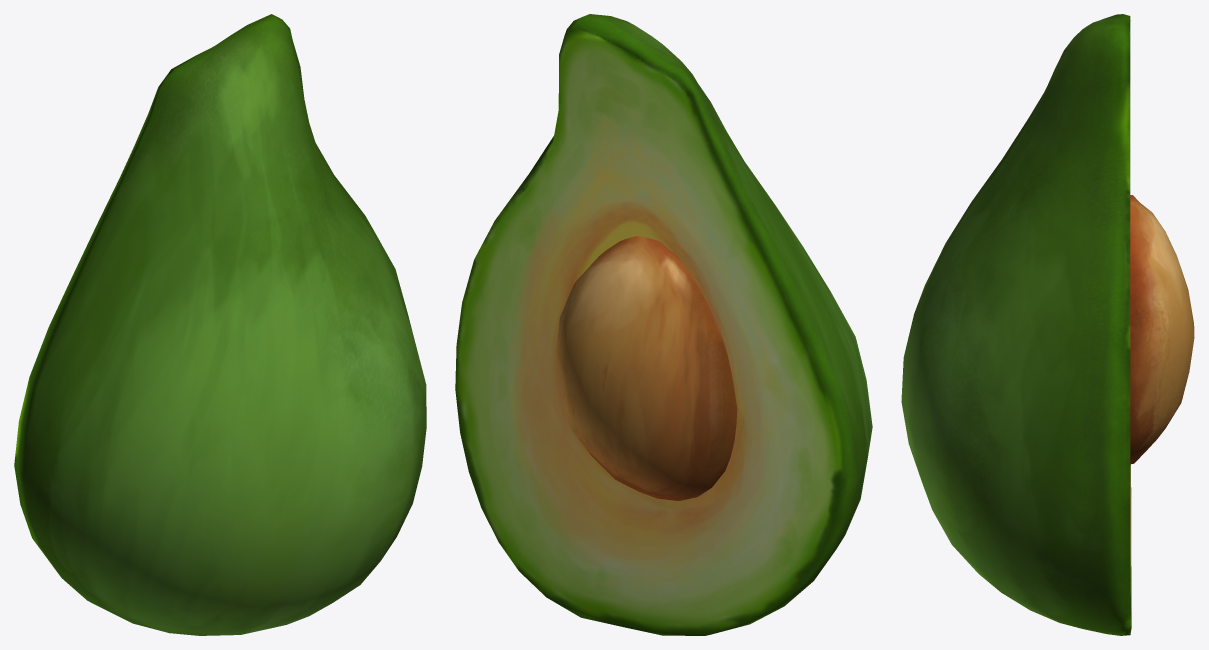
The picture shows the model from 3 angles, left to right: view 1: azimuth 30°, elevation 25°; view 2: azimuth 150°, elevation 25°; view 3: azimuth 270°, elevation 25°; orthographic projection. The views are drawn at different scales.
Parts seen in each view (by area): view 1: Avocado; view 2: Avocado; view 3: Avocado.
Part boxes in pixels (left/top/right/bottom): Avocado: left=14, top=14, right=426, bottom=635; Avocado: left=455, top=14, right=872, bottom=635; Avocado: left=901, top=14, right=1194, bottom=635.
Bounding box in the file's own units: 6.77 × 10 × 4.39.
Materials: 1 (1 with a texture image).
